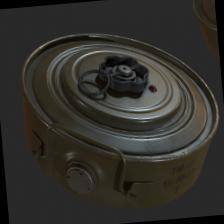TM-46: (7, 19, 222, 218)
